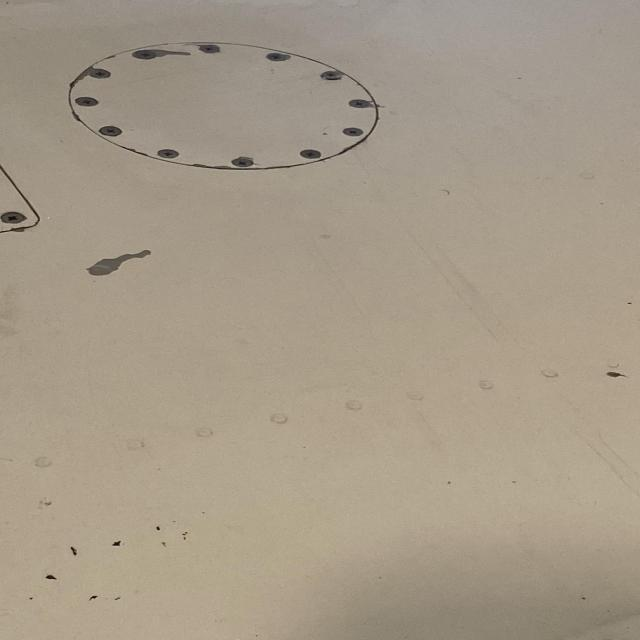Paint-off: (85, 249, 148, 276), (131, 44, 189, 58)
